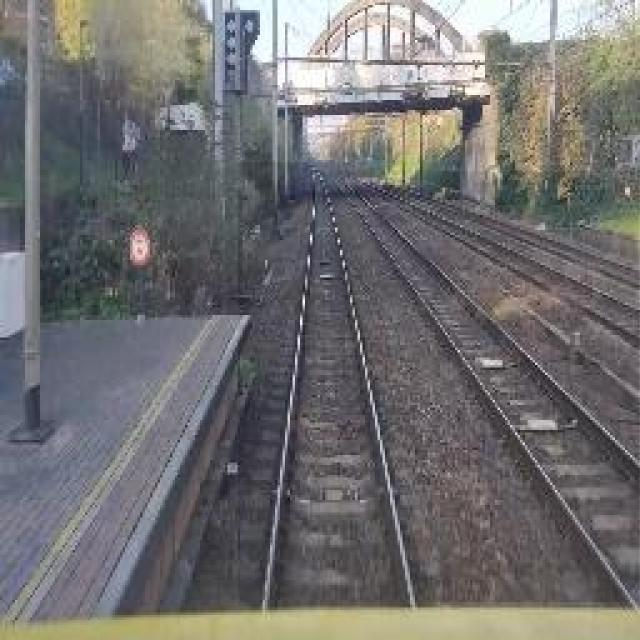rail: (323, 172, 640, 603), (240, 164, 439, 607)
